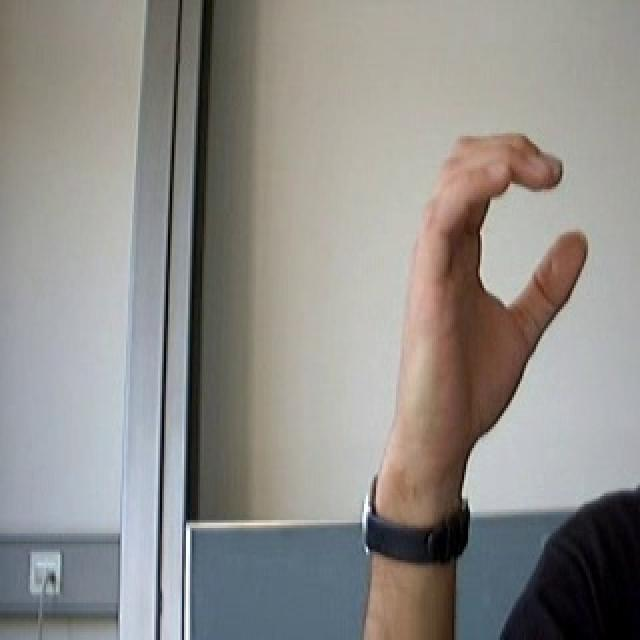C: (388, 118, 601, 483)
